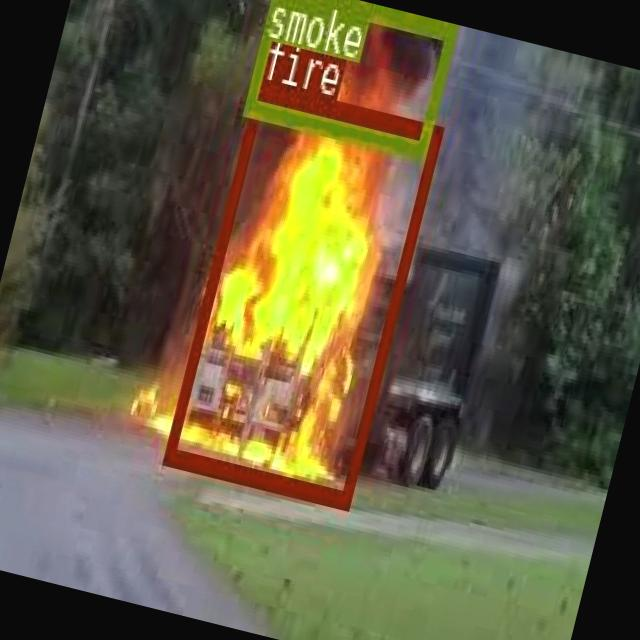fire: (162, 77, 443, 506)
smoke: (242, 0, 455, 153)
